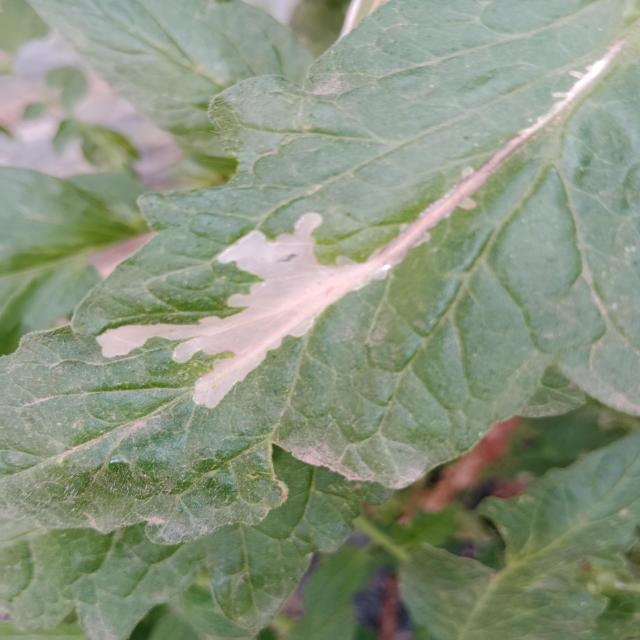Tuta absoluta: (93, 179, 395, 441)
